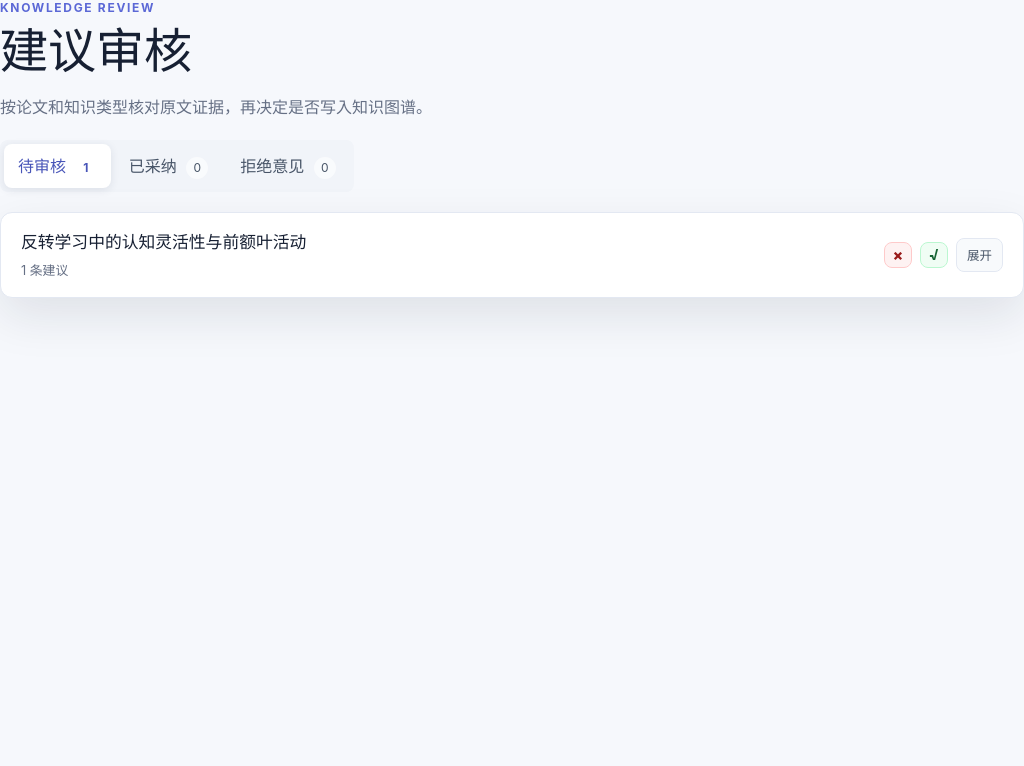
Test case: SuggestionReviewPage v05 behavior › allows an empty rejection reason
Click the button "展开". click: (980, 255)
box: [956,238,1003,272]
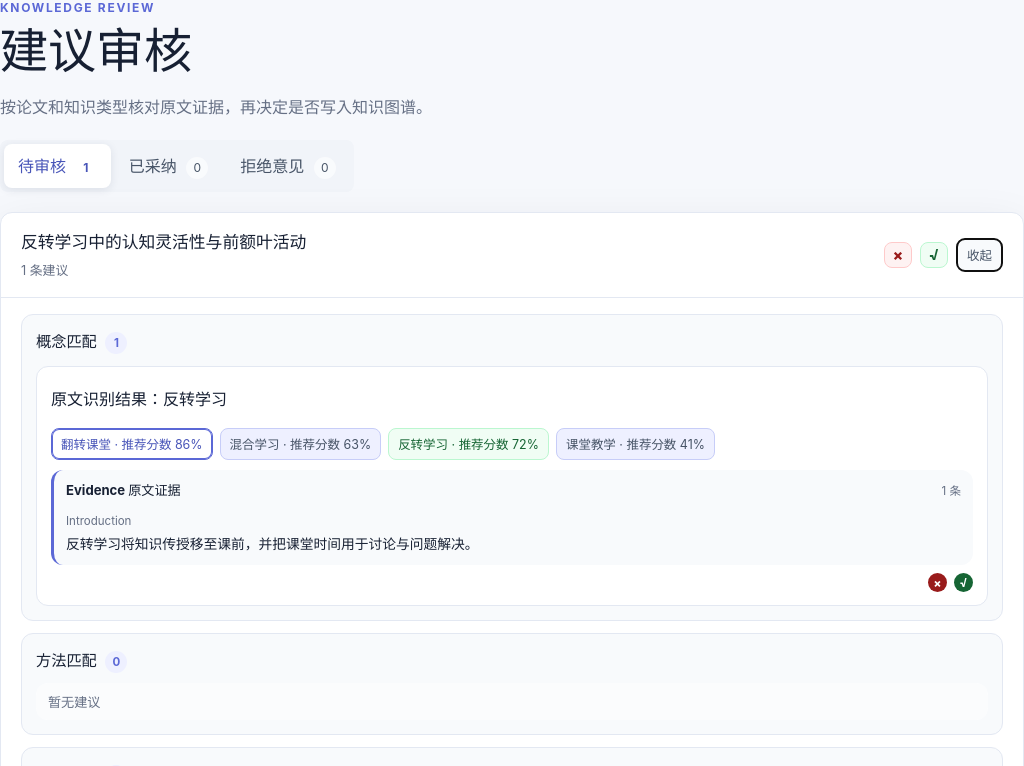
Click the 2nd button "×". click: (938, 583)
box: [928,573,947,592]
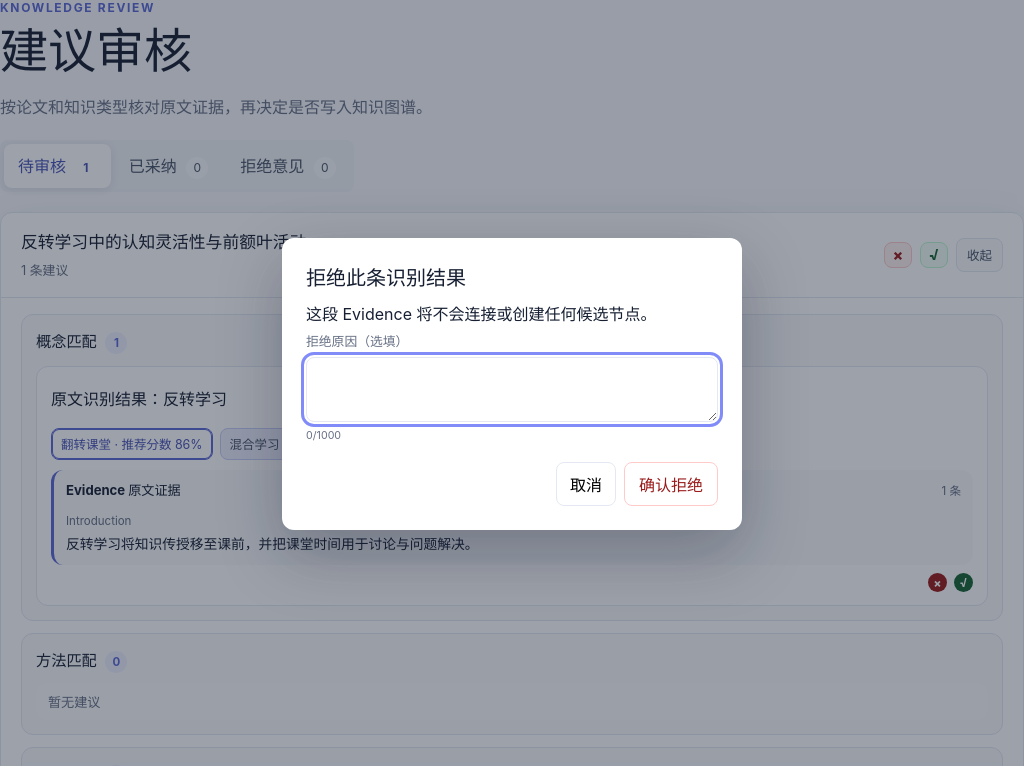
Result: the button "确认拒绝" is enabled
Click the button "确认拒绝". click: (671, 484)
box: [624,462,718,506]
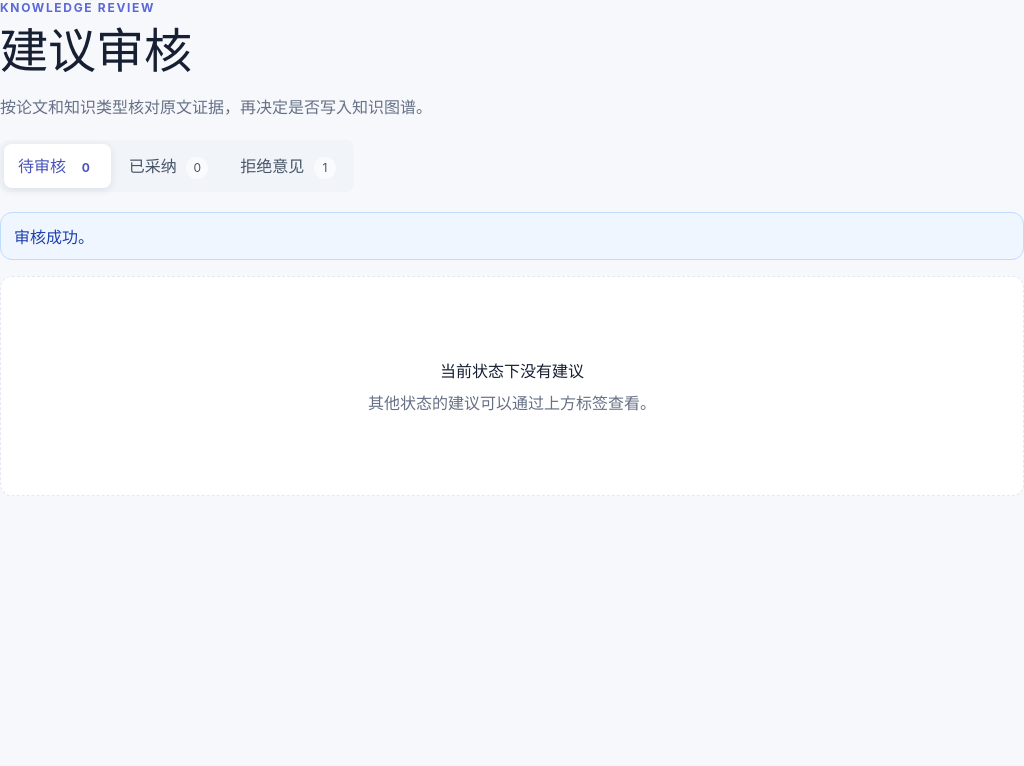
Result: the message shows "审核成功" at [14,227,94,247]
